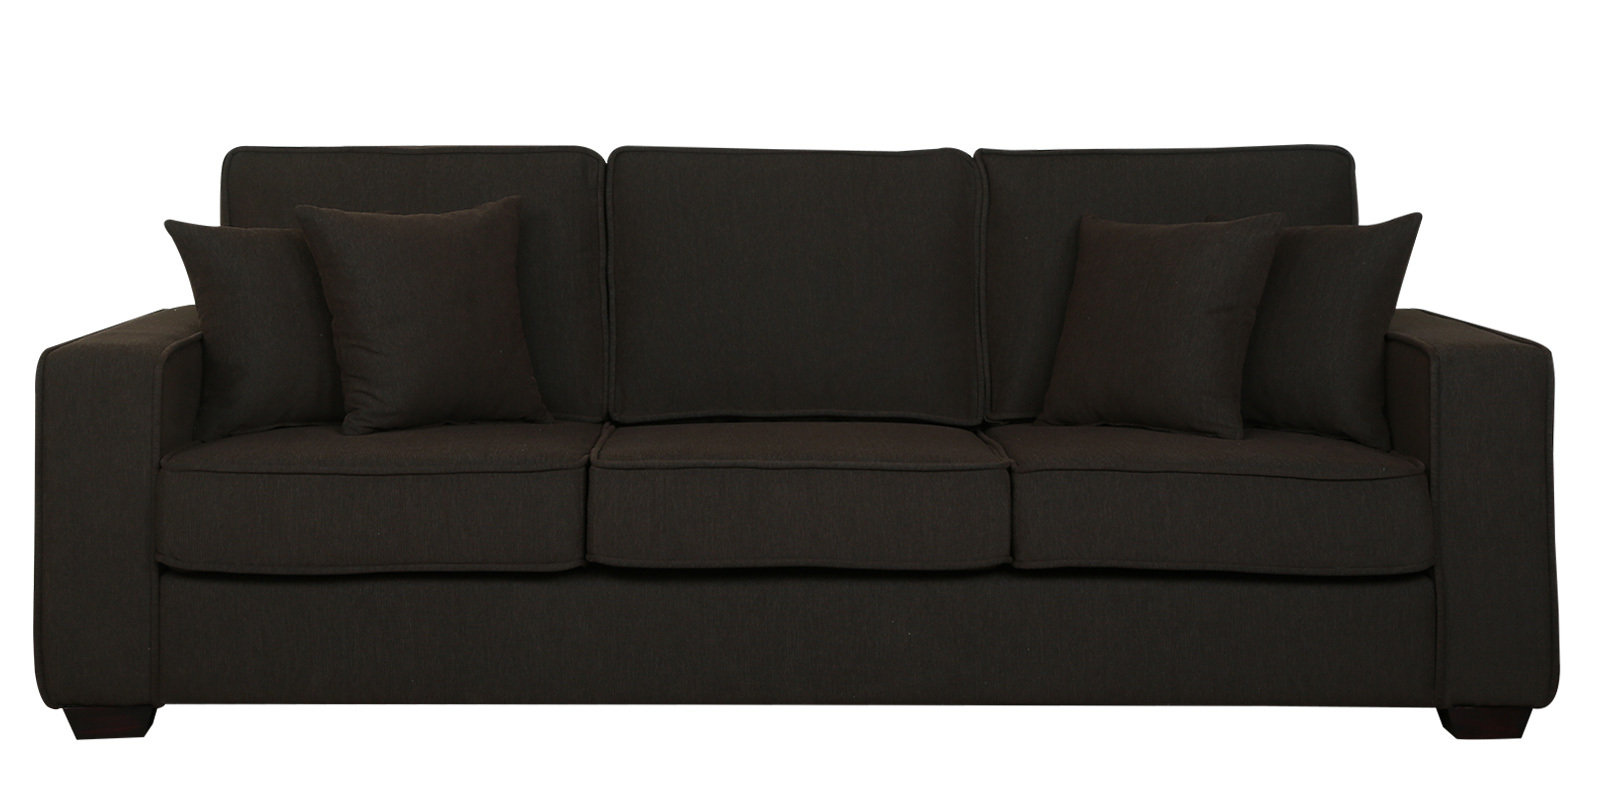Hugo Three Seater Sofa in Chestnut Brown Colour by CasaCraft: (11, 135, 1599, 757)
